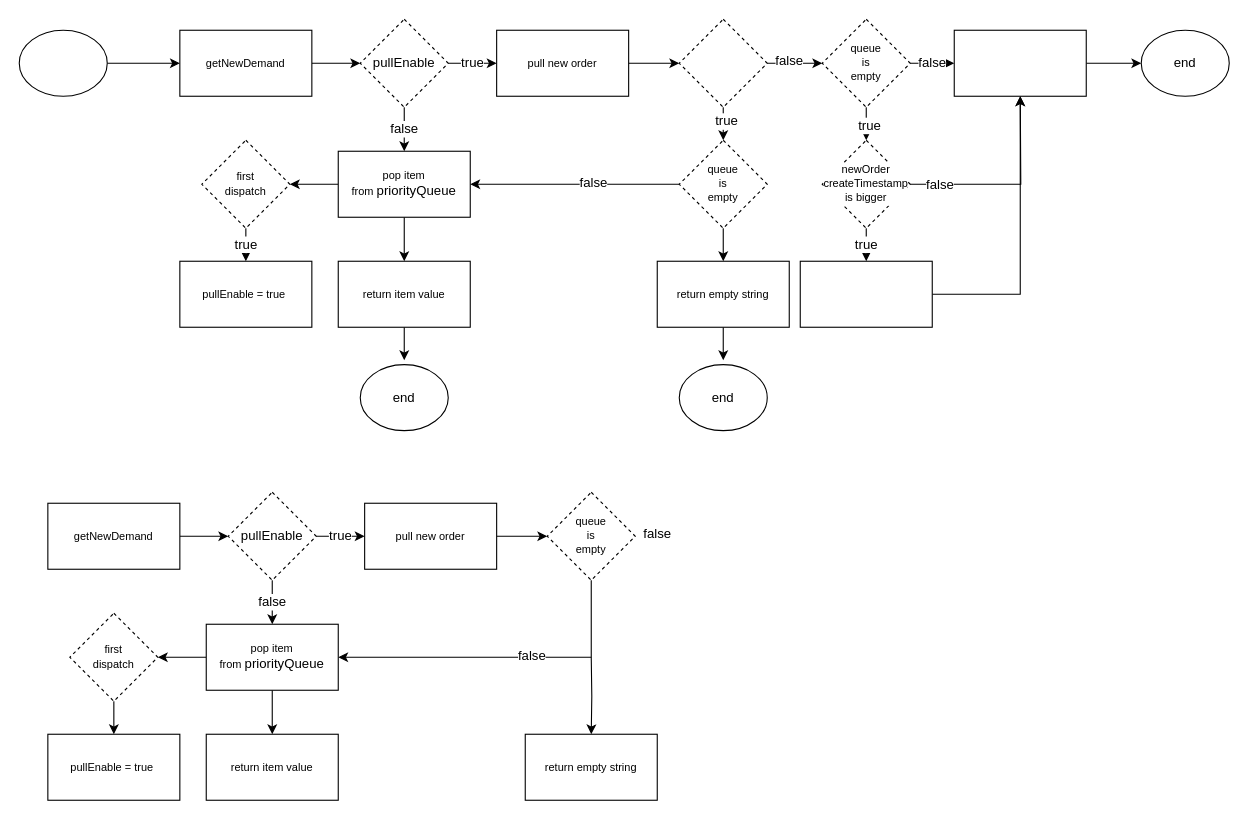
This 1249x820 diagram has some shape labels left out. The centre of each missing label's shape, as x and y in pixels:
"order is nil" belongs at point (722, 62).
"push this order to queue and pop one item as the new order" belongs at point (865, 293).
"return new order" belongs at point (1019, 62).
"start" belongs at point (62, 62).
